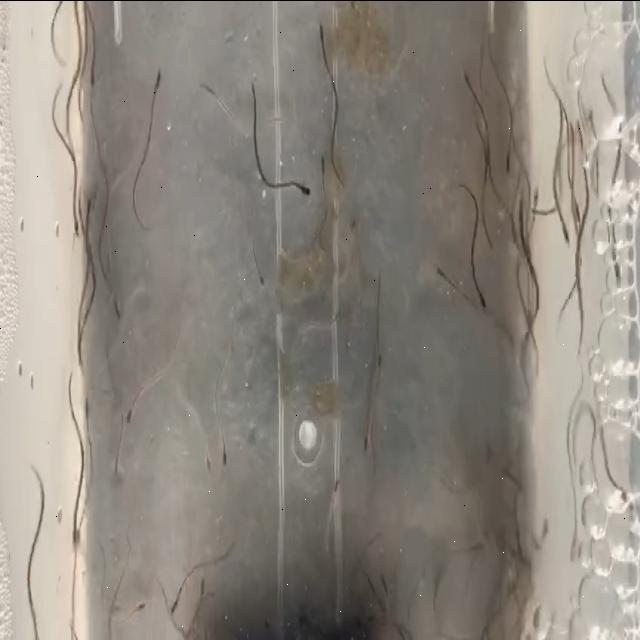active_glass_eel: (57, 192, 84, 240), (123, 568, 151, 614), (310, 13, 336, 62), (190, 433, 218, 475), (161, 571, 185, 619), (65, 524, 87, 570), (252, 248, 270, 302), (218, 431, 235, 485), (108, 296, 136, 328), (151, 56, 167, 108), (362, 410, 376, 468), (76, 386, 100, 418), (328, 472, 343, 521), (564, 512, 578, 562), (314, 153, 326, 203), (468, 532, 488, 562), (298, 168, 314, 204), (612, 470, 630, 502), (475, 285, 490, 320), (578, 157, 594, 187), (124, 398, 138, 432), (551, 216, 569, 242), (500, 139, 514, 171), (485, 240, 497, 266), (92, 66, 100, 104), (373, 355, 387, 375)
